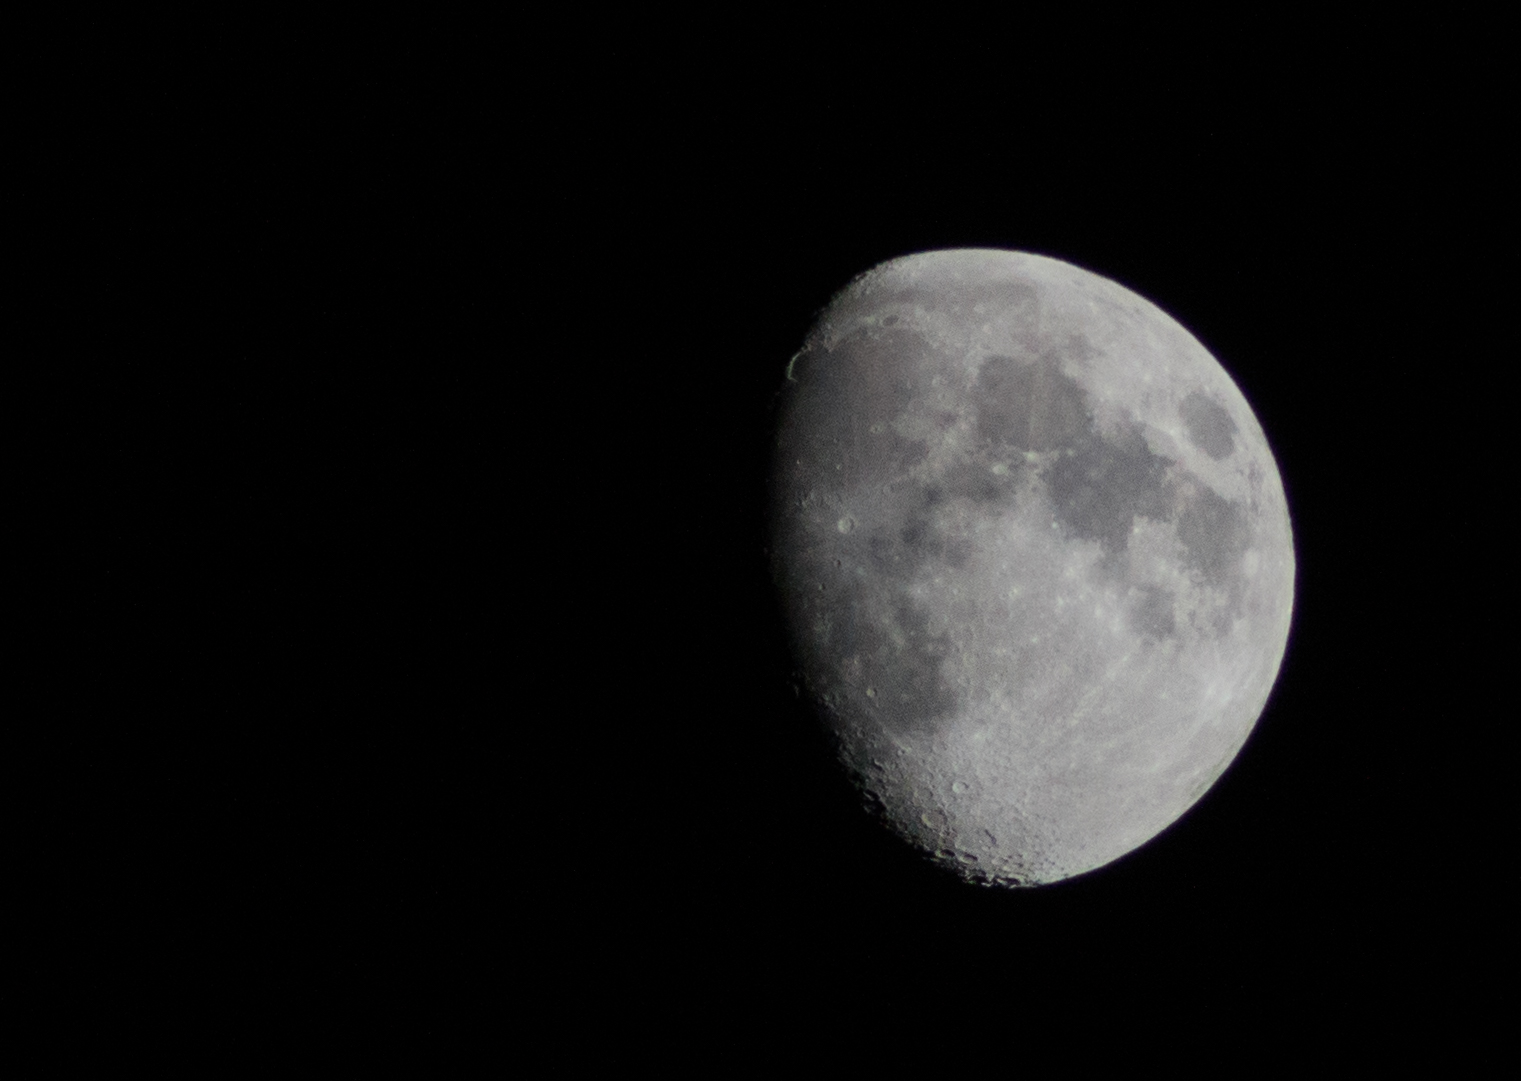crater: (823, 498, 874, 540), (876, 307, 920, 340), (947, 759, 980, 803), (859, 409, 895, 446), (917, 803, 954, 829)
